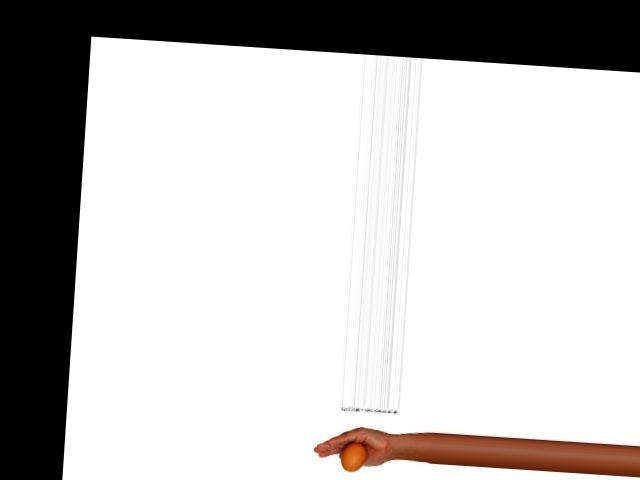egg: (339, 440, 367, 472)
